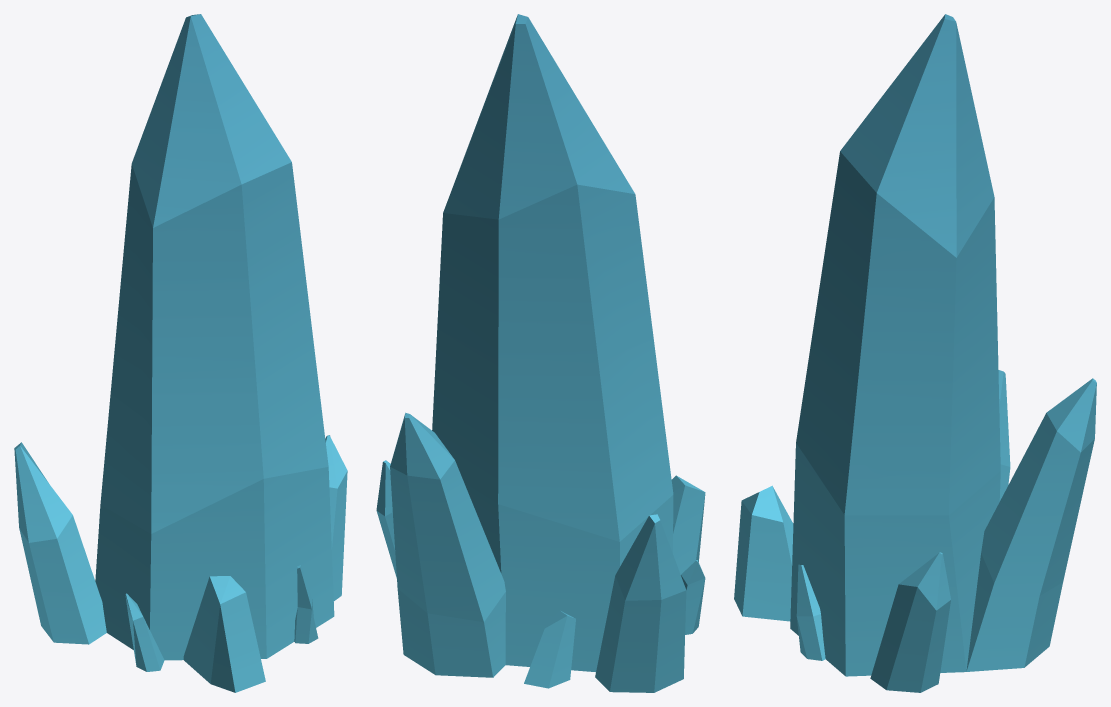
The model's file is crystal_blue.fbx.
3 views of the same model, side by side, from view 1: azimuth 30°, elevation 25°; view 2: azimuth 150°, elevation 25°; view 3: azimuth 270°, elevation 25° (orthographic). The views are drawn at different scales.
Visible parts, largest first — view 1: crystal_blue; view 2: crystal_blue; view 3: crystal_blue.
Boxes of the visible parts, box(x1,y1,x2,y2) form: crystal_blue: box(14, 14, 347, 692); crystal_blue: box(376, 14, 705, 692); crystal_blue: box(734, 14, 1096, 692).
Bounding box in the file's own units: 0.75 × 1.4 × 0.75.
1 material, 1 textured.
